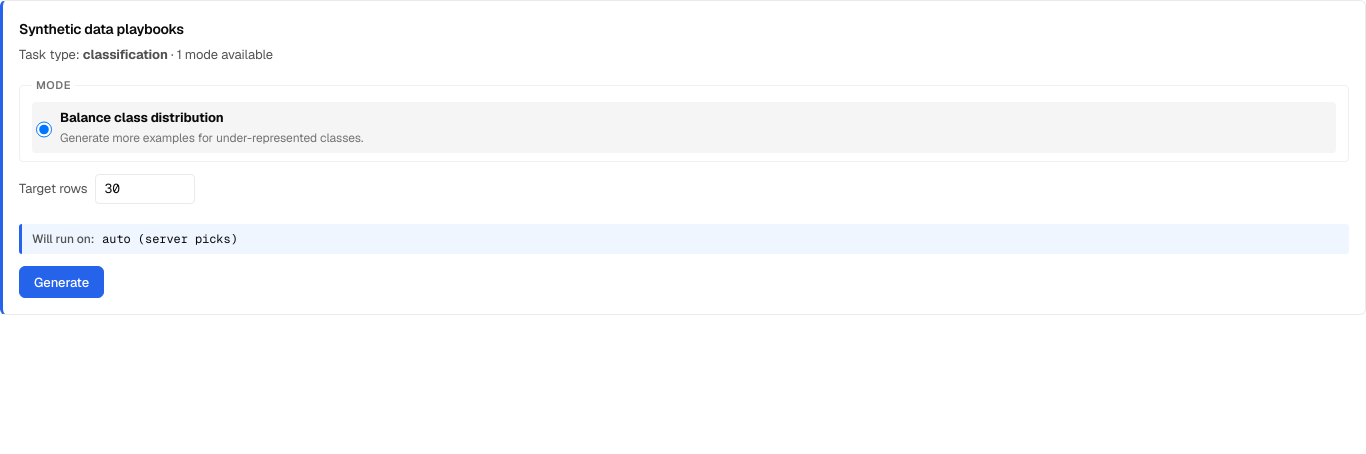
Test: PlaybookPickerPanel › shows a 0-rows diagnostic (no retry) when dry-run returns empty output without a refusal
The image size is (1366, 454).
Click the button with test id "playbook-picker-run".
click(62, 282)  # box [19, 266, 104, 298]
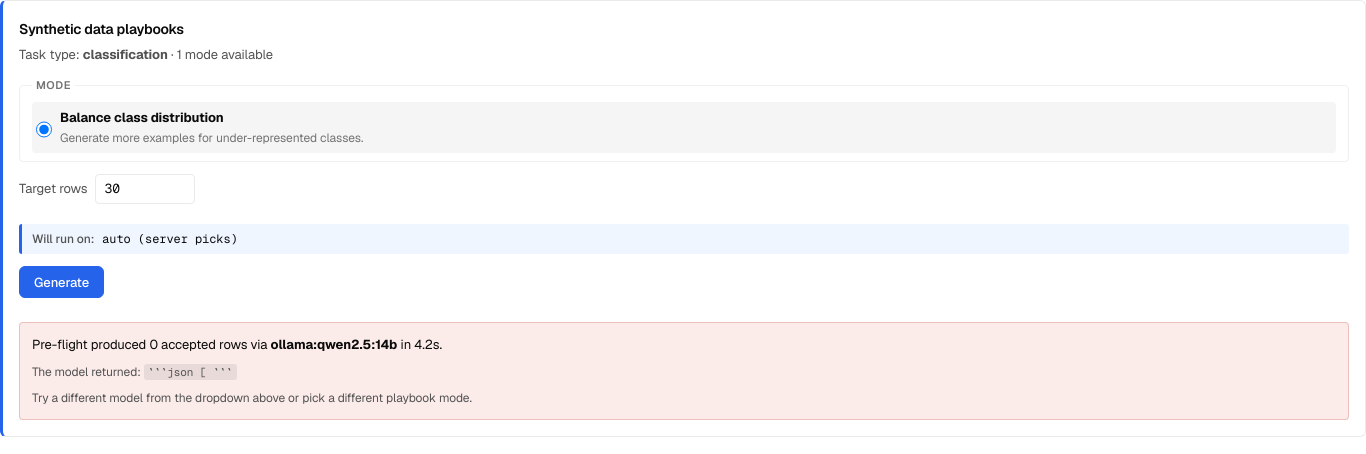
Now the message with test id "playbook-picker-preflight-failure" is shown, box [19, 322, 1349, 420]
Now the text with test id "playbook-picker-preflight-snippet" shows "json", box [148, 365, 233, 379]
